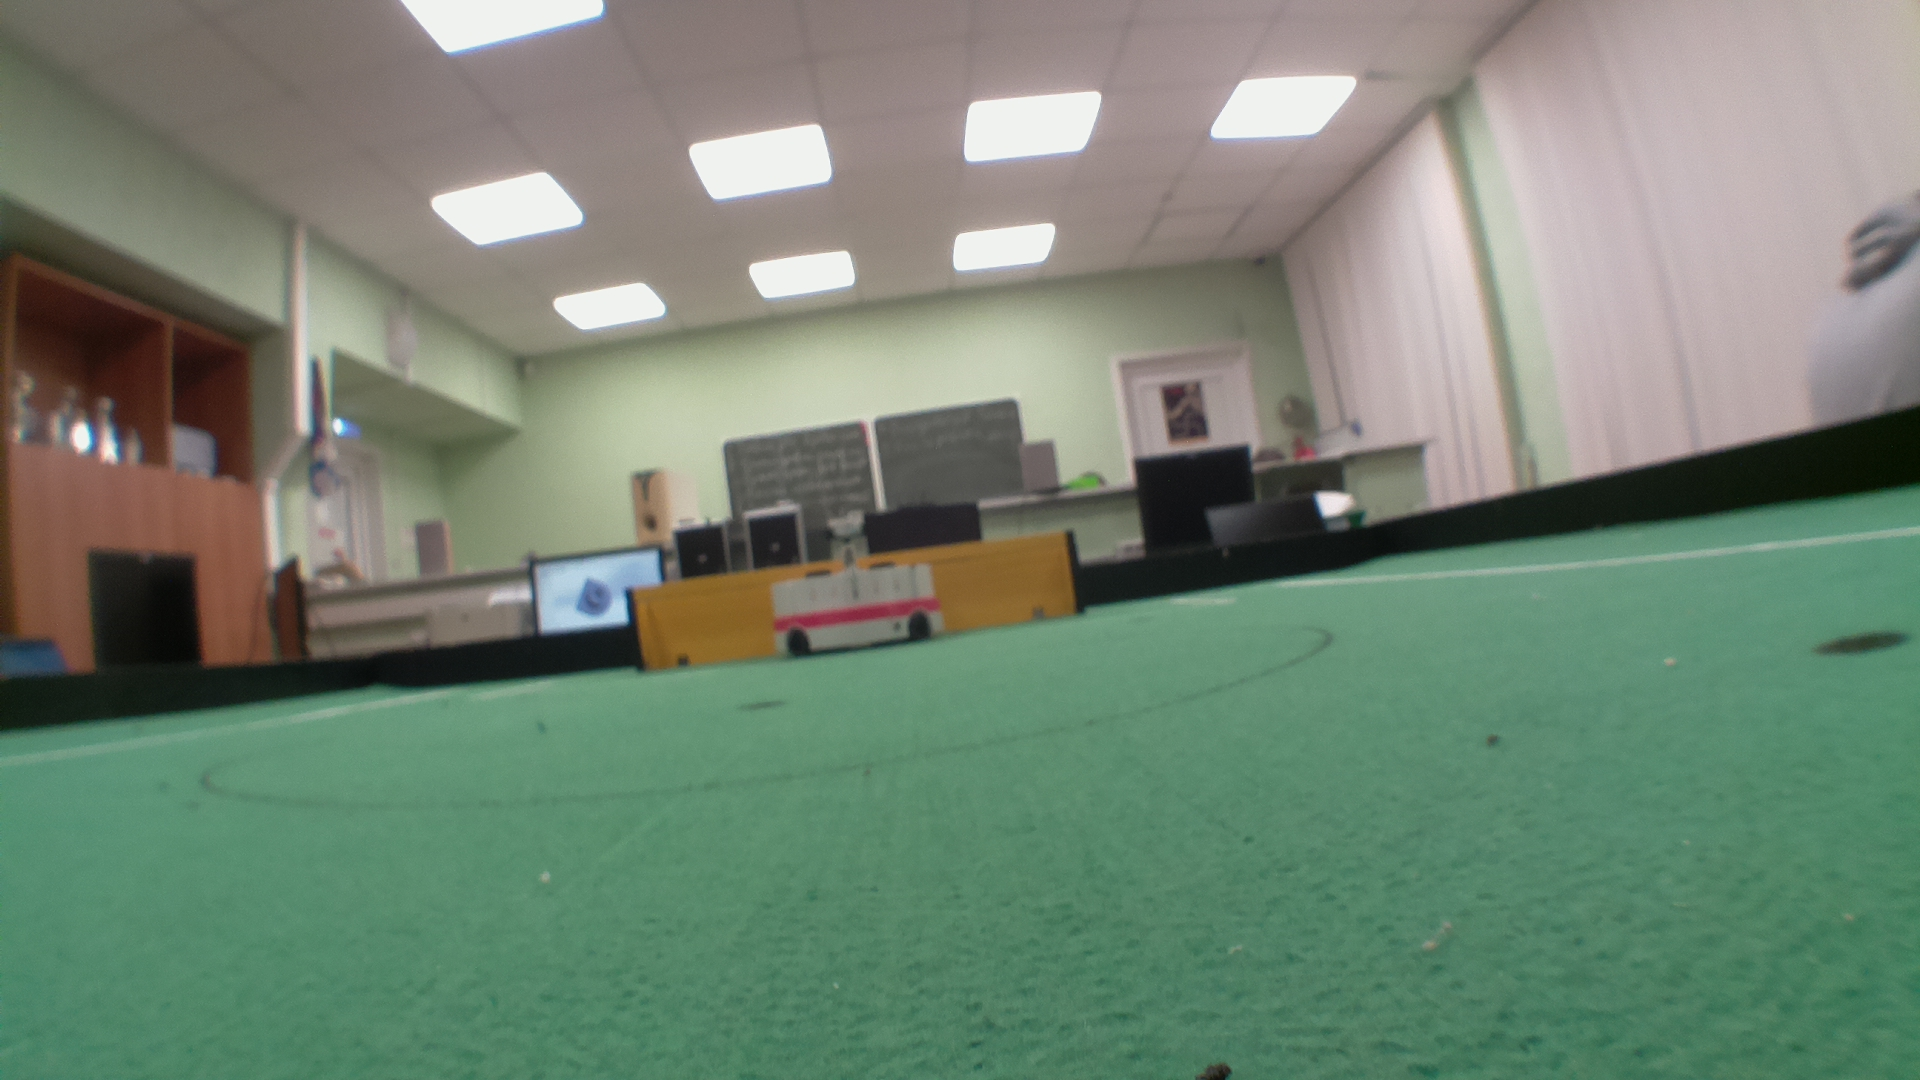YellowGoal: (640, 545, 1076, 626)
